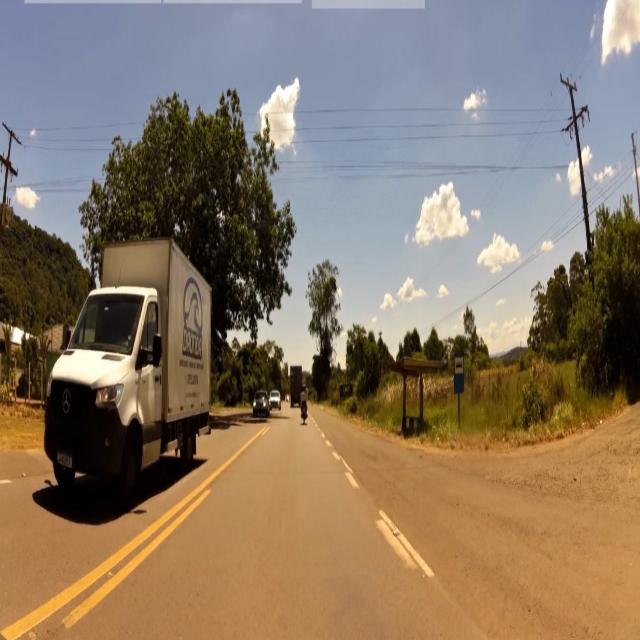S-14: (454, 351, 466, 398)
